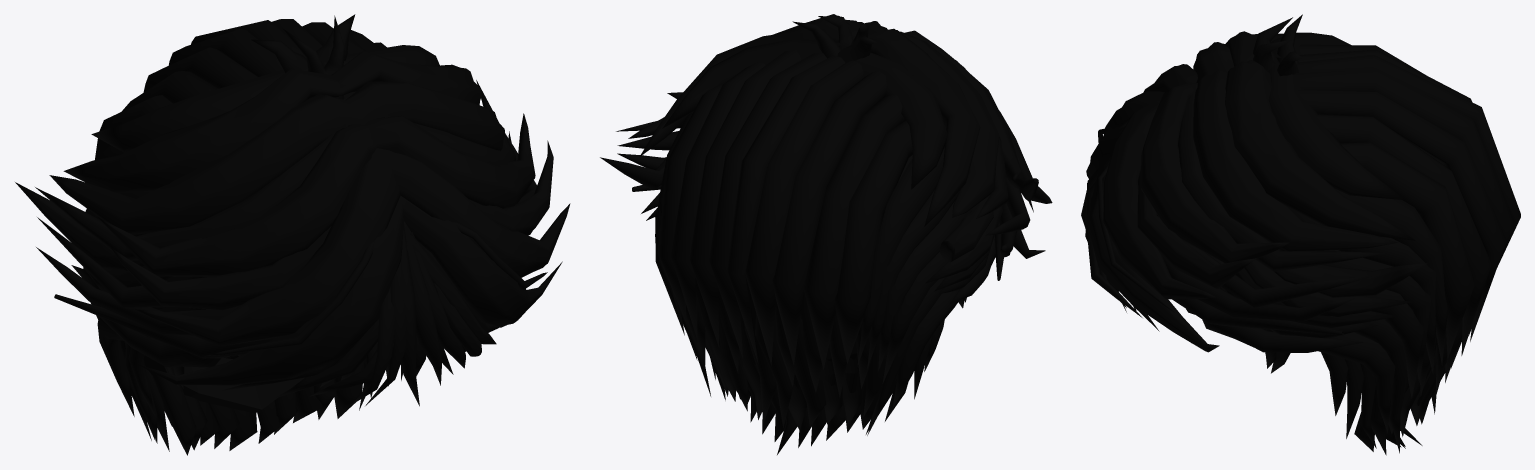
File: YusukeHair2.fbx
3 renders of one model, left to right at view 1: azimuth 30°, elevation 25°; view 2: azimuth 150°, elevation 25°; view 3: azimuth 270°, elevation 25°, orthographic. The views are drawn at different scales.
Visible parts, largest first — view 1: YusukeHair2; view 2: YusukeHair2; view 3: YusukeHair2.
Boxes of the visible parts, x1,y1,x2,y2 form: YusukeHair2: [15, 14, 570, 455]; YusukeHair2: [600, 14, 1052, 454]; YusukeHair2: [1081, 14, 1520, 455].
Bounding box in the file's own units: 24.81 × 23.99 × 22.89.
